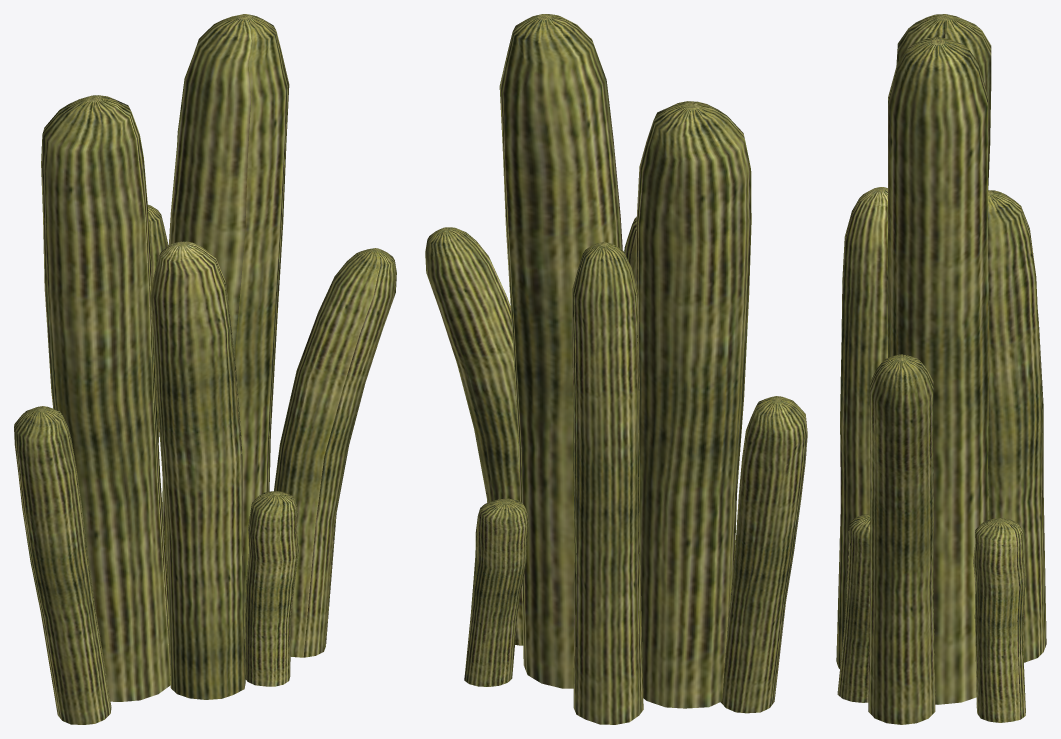
The model's file is Columnar_Cactus.FBX.
3 renders of one model, left to right at view 1: azimuth 30°, elevation 25°; view 2: azimuth 150°, elevation 25°; view 3: azimuth 270°, elevation 25°, orthographic. The views are drawn at different scales.
Parts seen in each view (by area): view 1: Columnar_Cactus; view 2: Columnar_Cactus; view 3: Columnar_Cactus.
Part boxes in pixels (x1,y1,x2,y2): Columnar_Cactus: [14, 14, 396, 724]; Columnar_Cactus: [425, 14, 807, 724]; Columnar_Cactus: [836, 14, 1046, 724].
Size of the model in its own units: 43.99 by 72.42 by 20.62.
